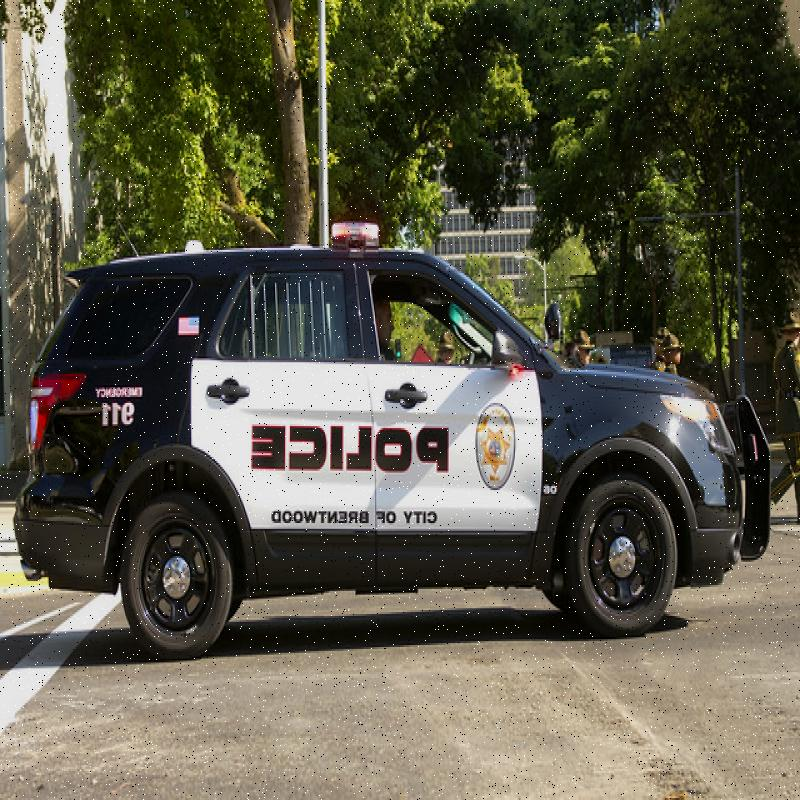AmbulanceSiren: (324, 200, 393, 254)
